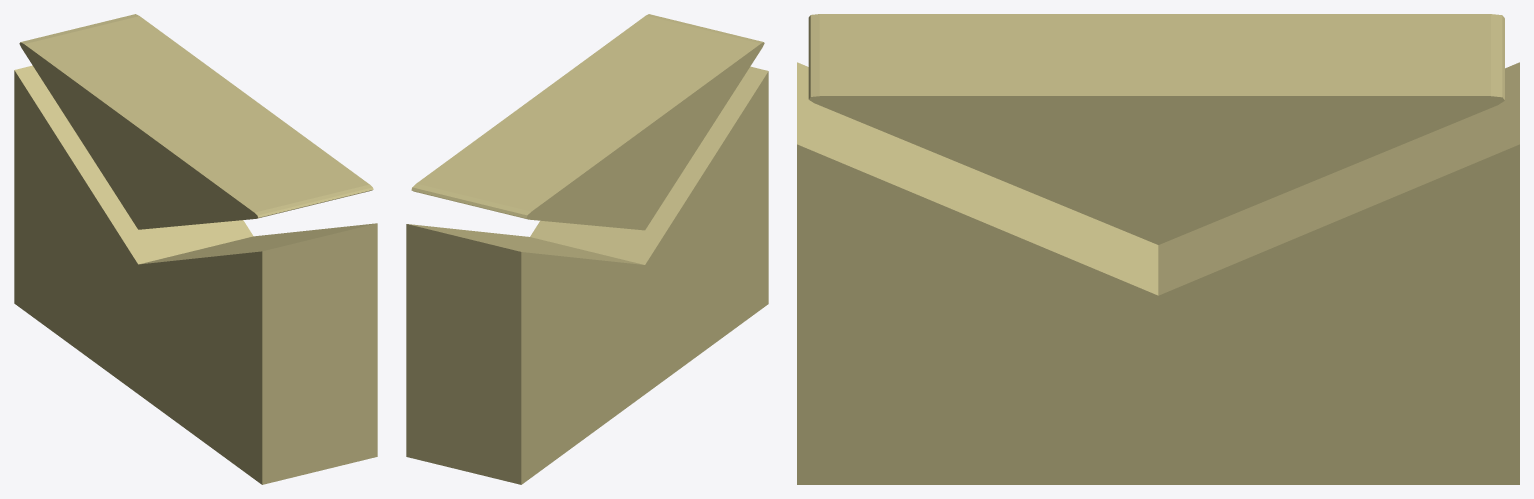
Rendered from icon_letter.obj.
3 renders of one model, left to right at view 1: azimuth 30°, elevation 25°; view 2: azimuth 150°, elevation 25°; view 3: azimuth 270°, elevation 25°, orthographic. The views are drawn at different scales.
Parts seen in each view (by area): view 1: Cube_Cube.007; view 2: Cube_Cube.007; view 3: Cube_Cube.007.
Part boxes in pixels (x1=…): Cube_Cube.007: x1=14, y1=14, x2=377, y2=484; Cube_Cube.007: x1=406, y1=14, x2=768, y2=484; Cube_Cube.007: x1=797, y1=14, x2=1519, y2=484.
Bounding box in the file's own units: 0.617 × 1.36 × 2.29.
